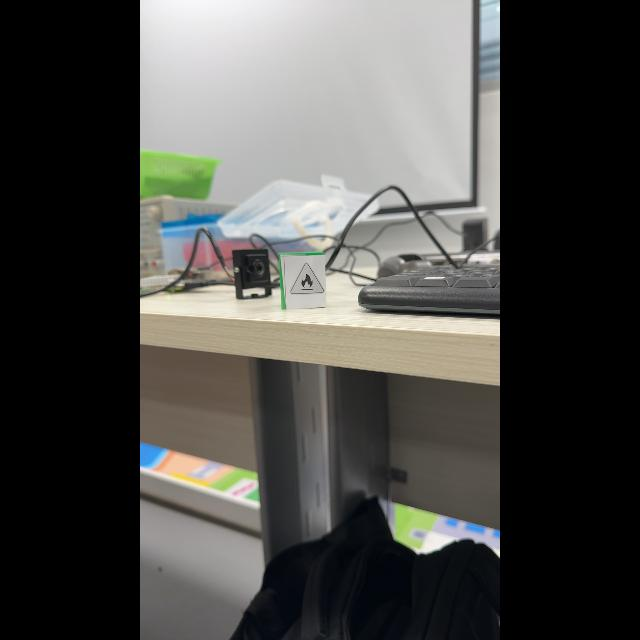Fire: (291, 263, 324, 294)
